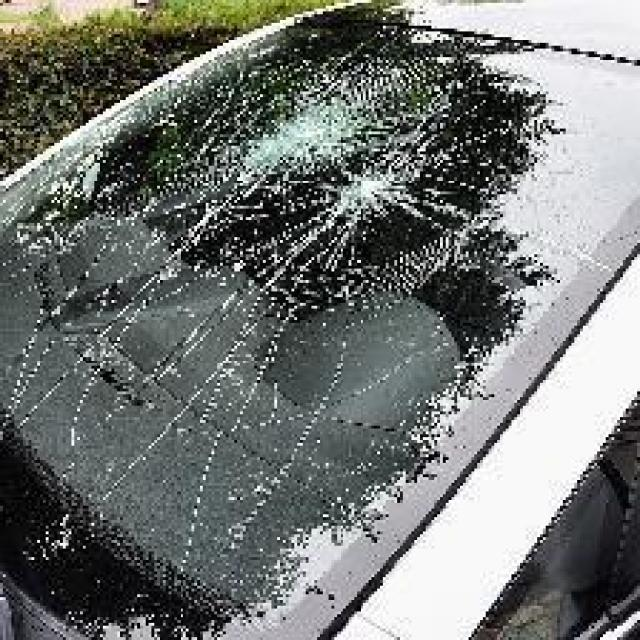damaged: (62, 57, 448, 580)
